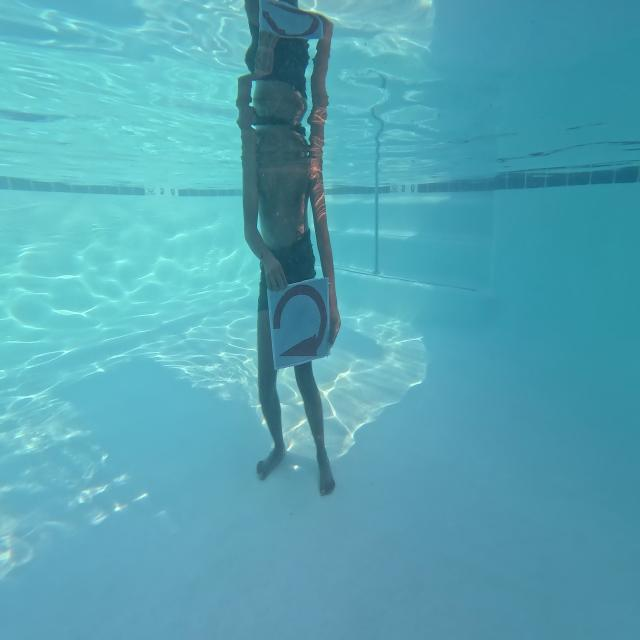red_side: (262, 265, 341, 376)
